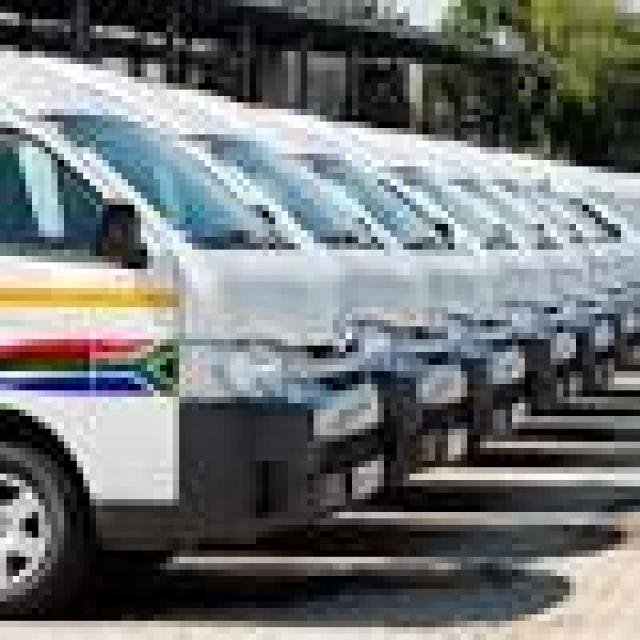MiniBus taxi: (6, 25, 372, 620)
